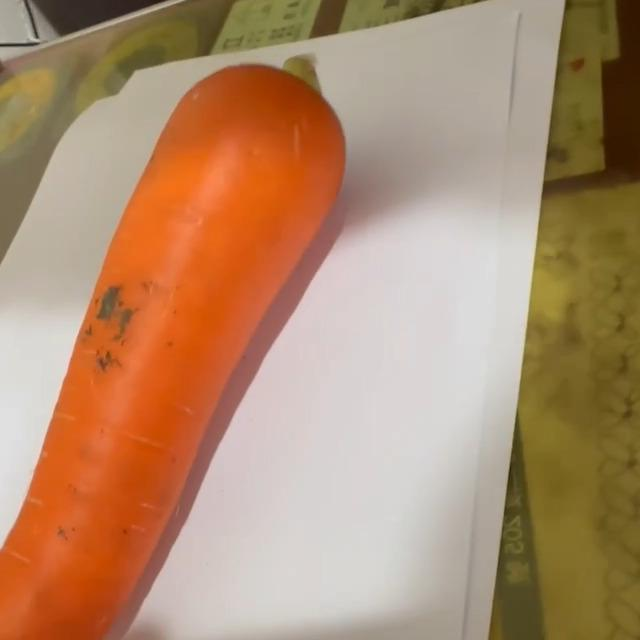carrot: (1, 55, 349, 640)
